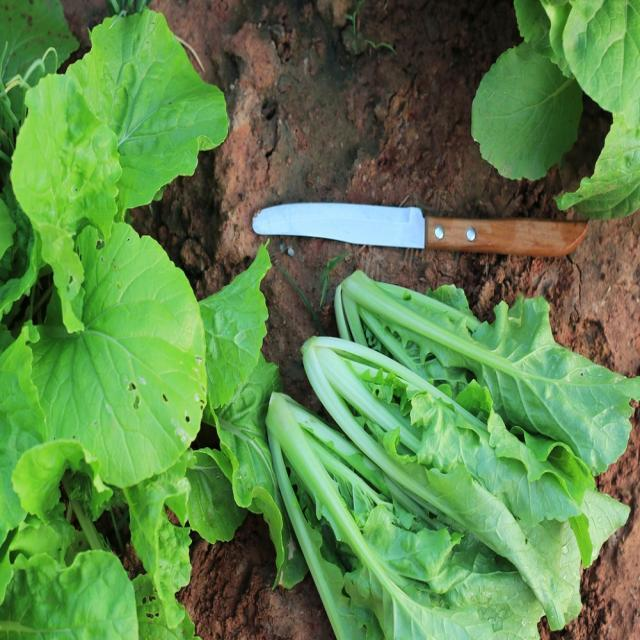Lettuce-Ready-to-Harvest: (307, 330, 624, 610), (265, 386, 542, 640), (343, 270, 638, 481)
